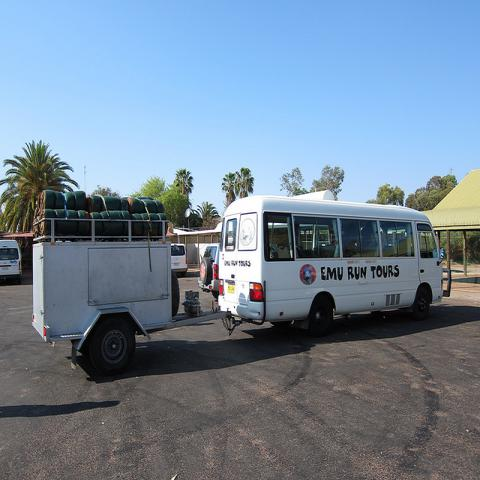bus: (219, 200, 443, 336)
car: (198, 244, 219, 300), (0, 240, 23, 280), (170, 243, 188, 276)
